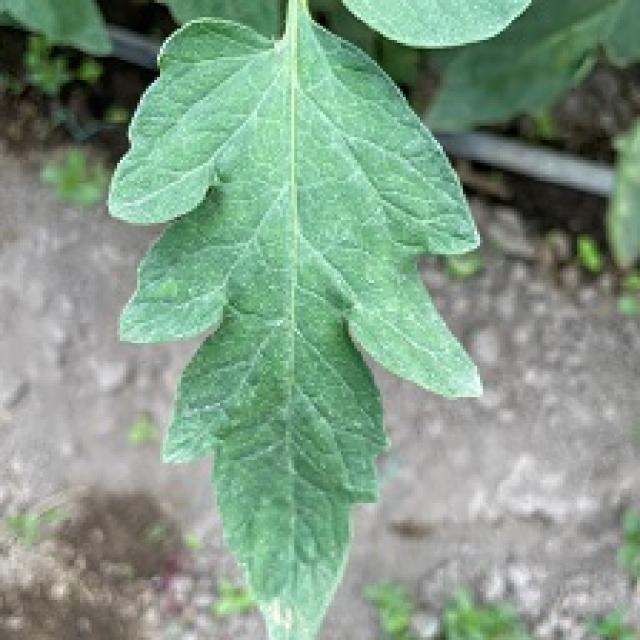Healthy: (27, 0, 585, 640)
